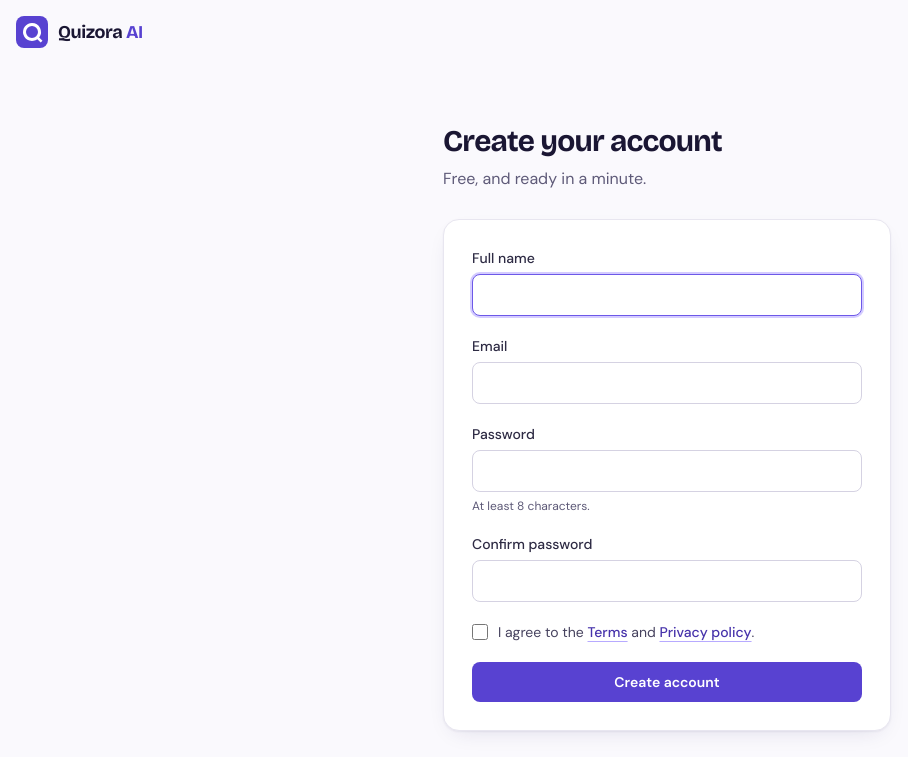
Test: Register form › rejects short passwords and mismatched confirmation
Step 1. Type "Ada" into the field labelled "Full name" → (667, 295), box [472, 274, 862, 316]
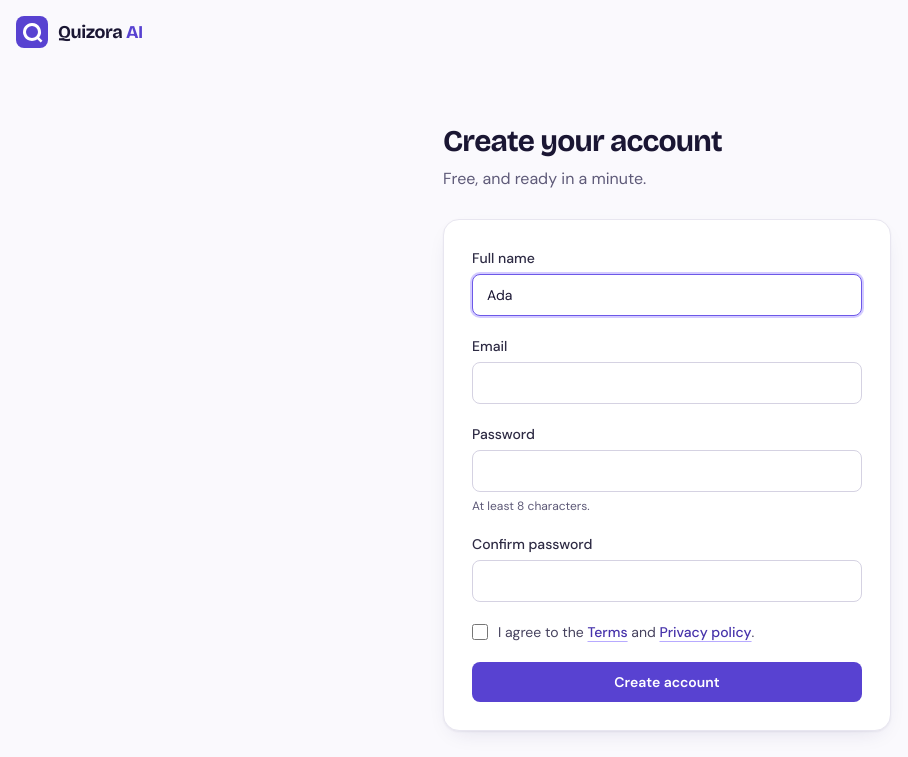
Step 2. Type "ada@example.com" into the field labelled "Email" → (667, 383), box [472, 362, 862, 404]
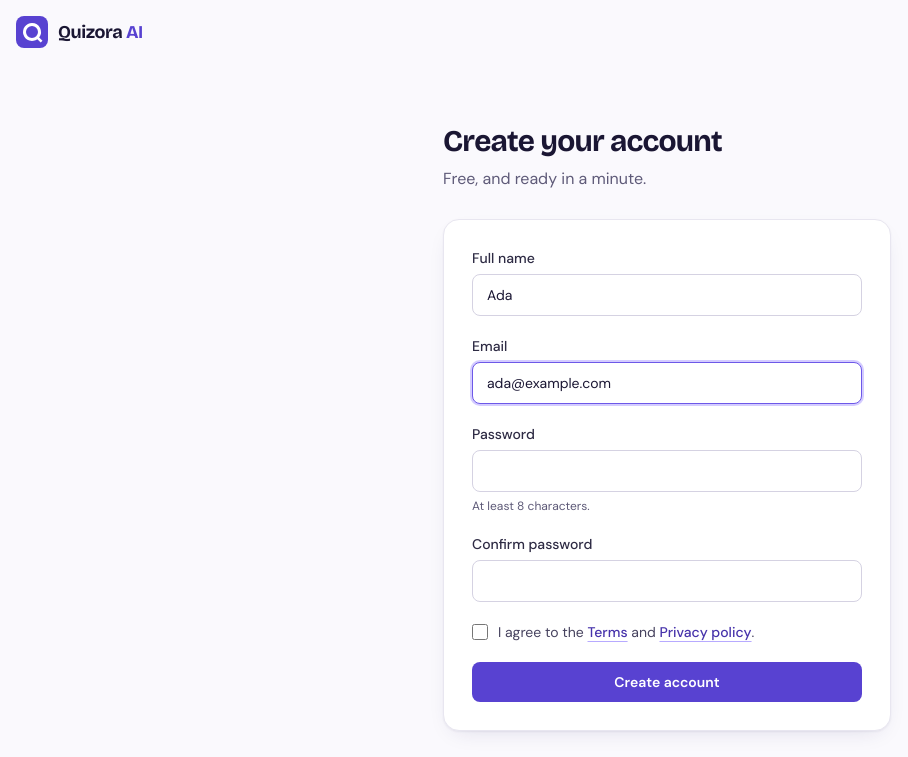
Step 3. Type "short" into the password field labelled "Password" → (667, 471), box [472, 450, 862, 492]
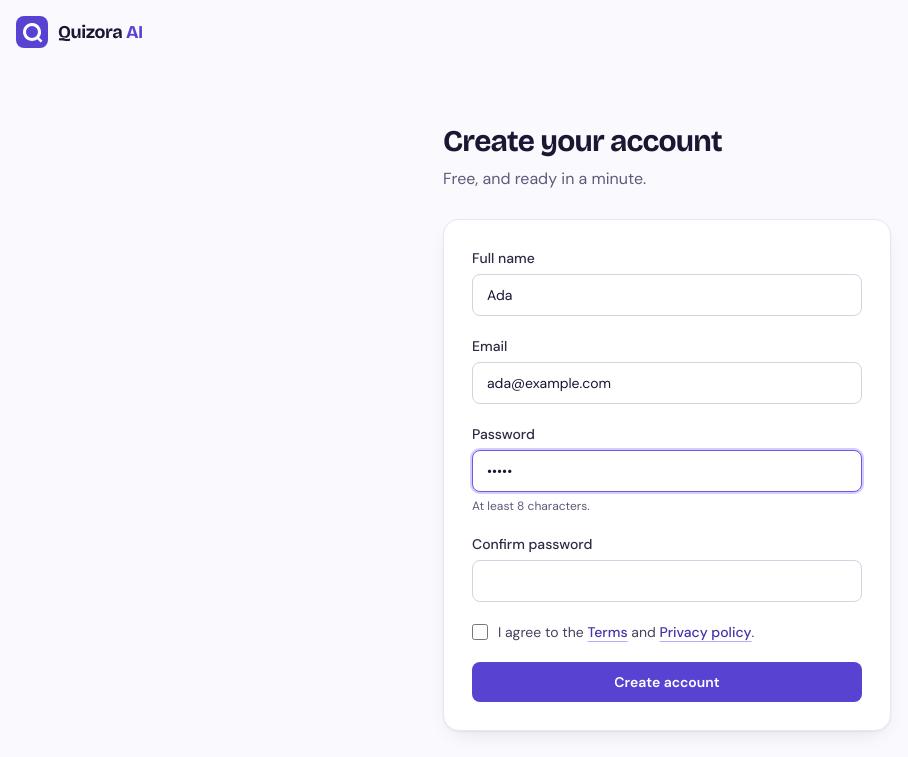
Step 4. Type "different" into the password field labelled "Confirm password" → (667, 581), box [472, 560, 862, 602]
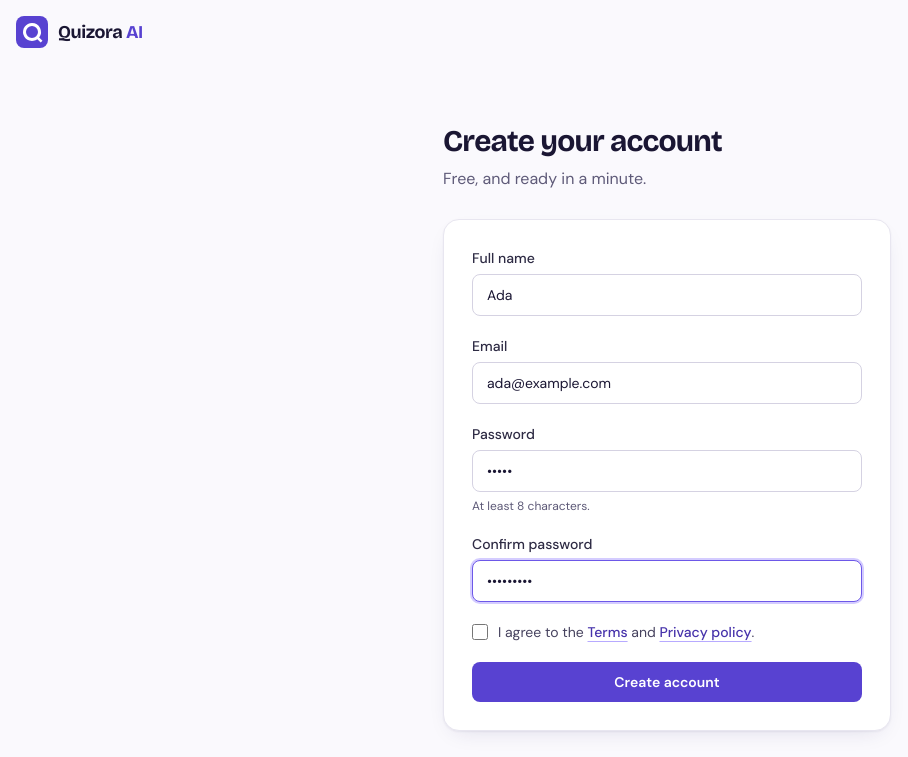
Step 5. Click the button "Create account" → (667, 682), box [472, 662, 862, 702]
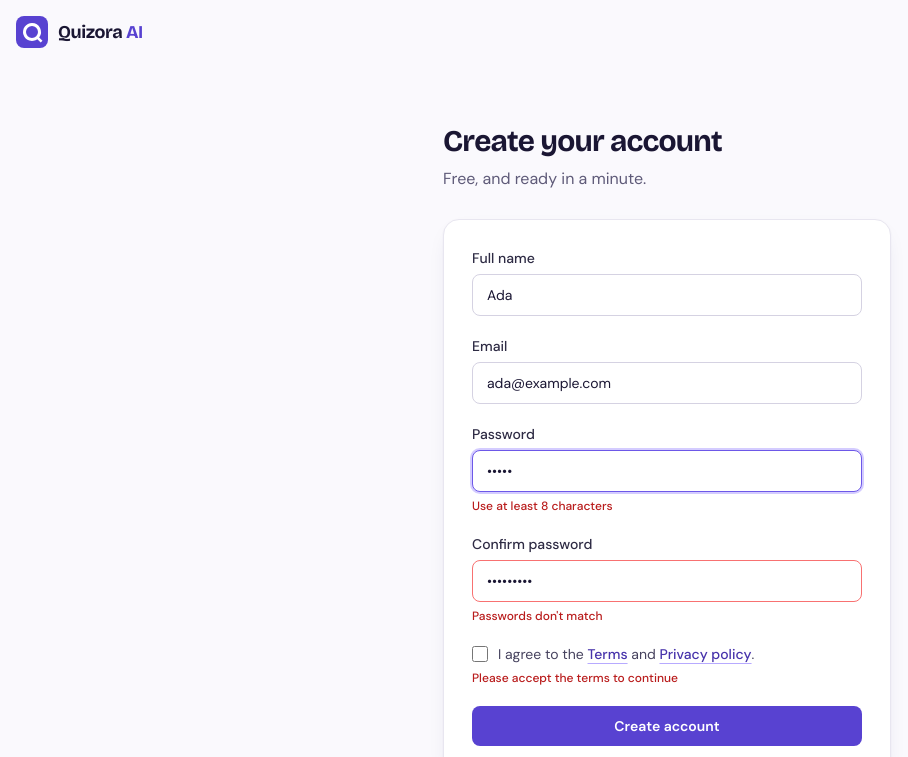
Check: the text "Use at least 8 characters" is shown, box [472, 498, 613, 514]
